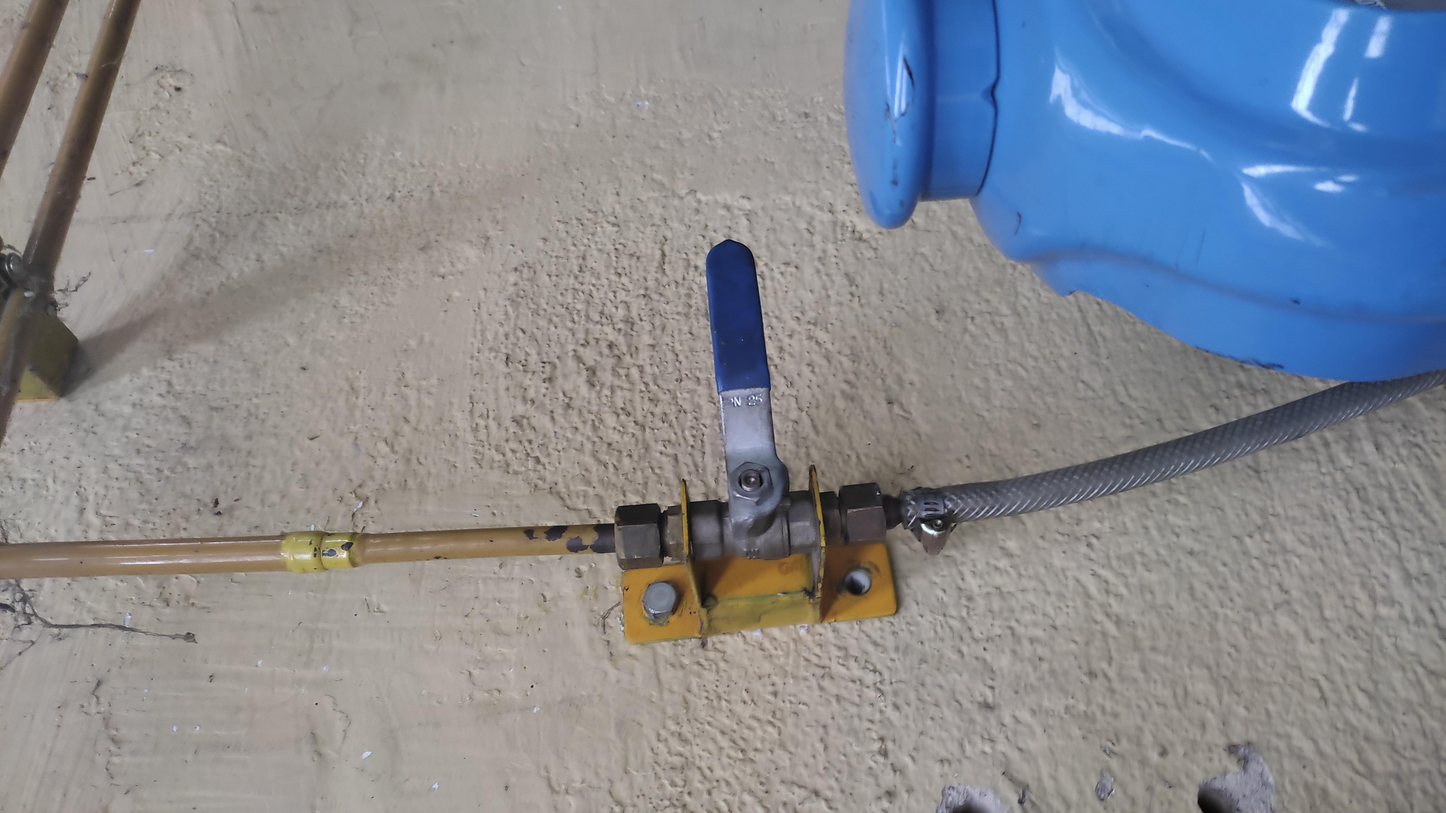closed valve: (659, 225, 838, 571)
